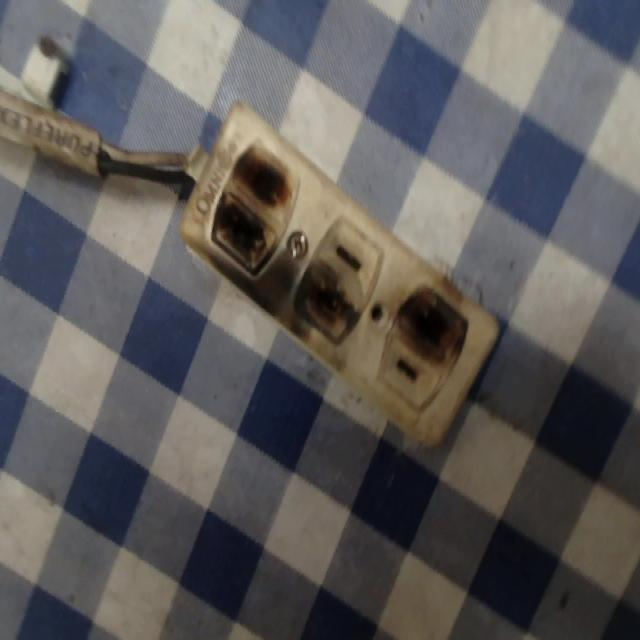-: (209, 119, 294, 282), (396, 263, 476, 360), (290, 256, 357, 355)
